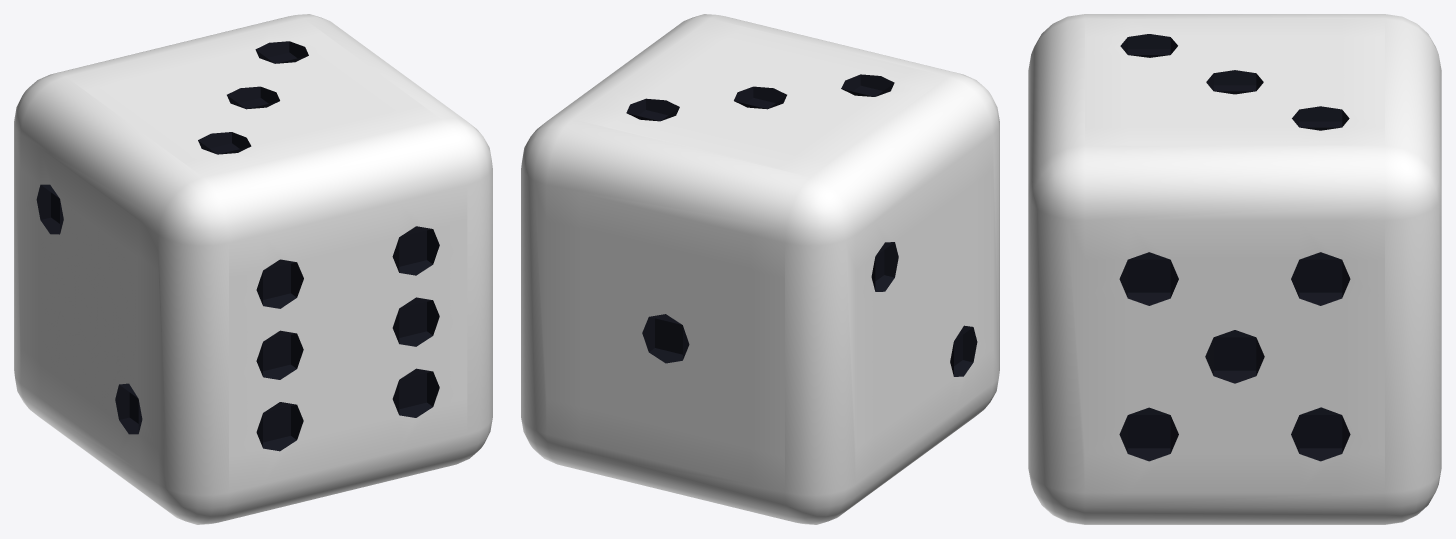
File: dice (1).fbx
The picture shows the model from 3 angles, left to right: view 1: azimuth 30°, elevation 25°; view 2: azimuth 150°, elevation 25°; view 3: azimuth 270°, elevation 25°; orthographic projection. The views are drawn at different scales.
Parts seen in each view (by area): view 1: Cube; view 2: Cube; view 3: Cube.
Part boxes in pixels (left/top/right/bottom): Cube: left=14, top=14, right=492, bottom=524; Cube: left=521, top=14, right=999, bottom=524; Cube: left=1028, top=14, right=1441, bottom=524.
Size of the model in its own units: 200 by 200 by 200.
